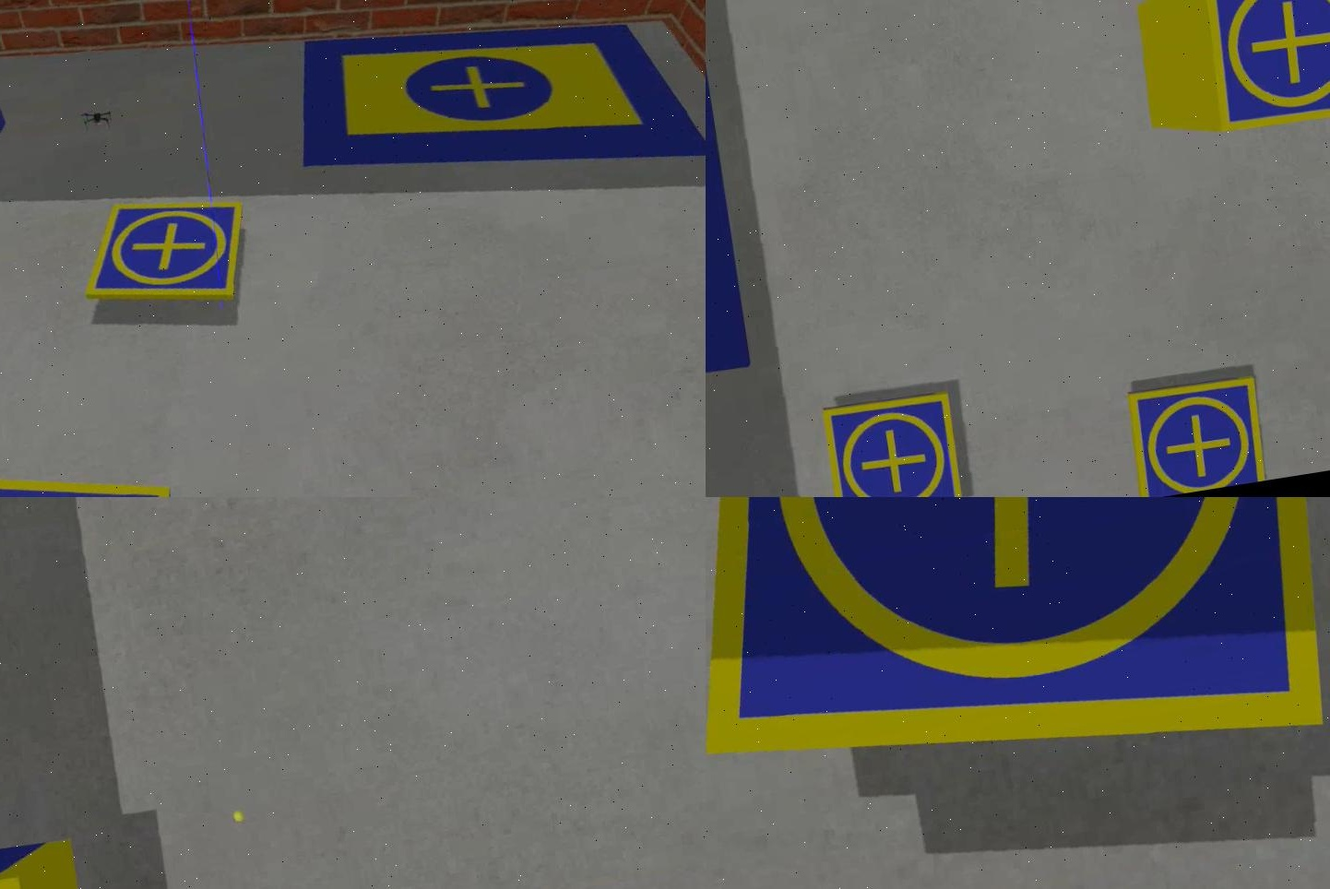large_base: (279, 1, 705, 220)
small_base: (705, 498, 1328, 824), (69, 184, 258, 325), (1191, 1, 1328, 141), (1122, 371, 1273, 498), (816, 387, 968, 498)
